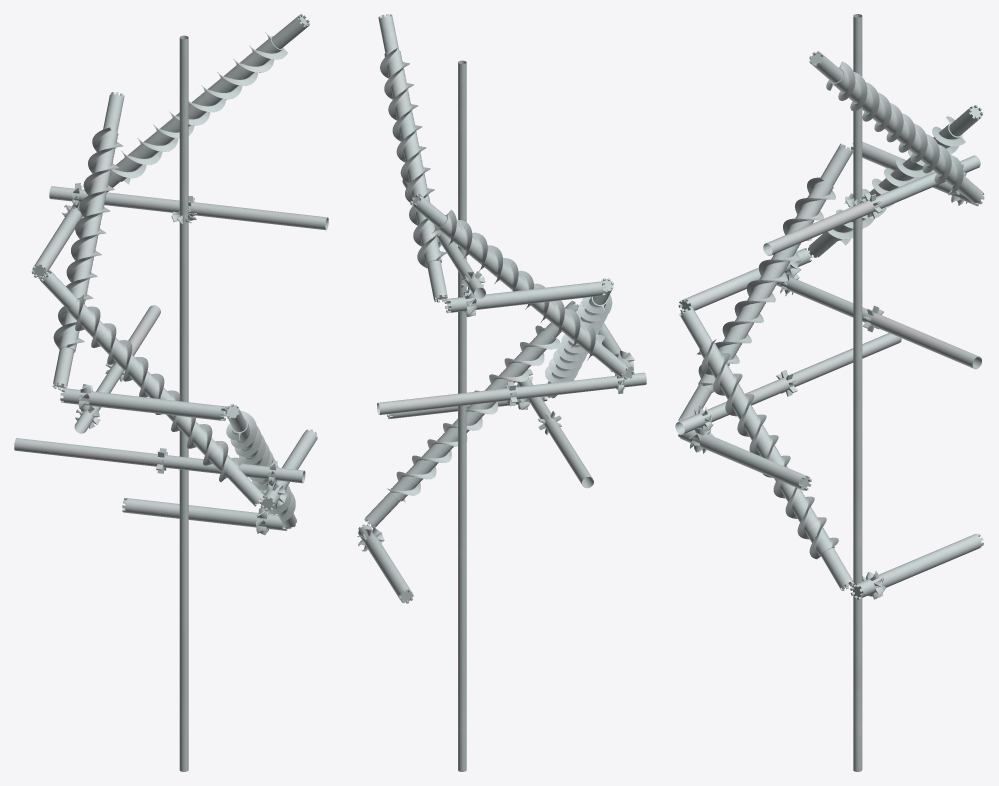
Rendered from field_winter_gear_recline.fbx.
The picture shows the model from 3 angles, left to right: view 1: azimuth 30°, elevation 25°; view 2: azimuth 150°, elevation 25°; view 3: azimuth 270°, elevation 25°; orthographic projection. The views are drawn at different scales.
Visible parts, largest first — view 1: field_winter_gear_recline; view 2: field_winter_gear_recline; view 3: field_winter_gear_recline.
Boxes of the visible parts, x1=… form: field_winter_gear_recline: x1=14, y1=14, x2=328, y2=771; field_winter_gear_recline: x1=357, y1=14, x2=646, y2=771; field_winter_gear_recline: x1=675, y1=14, x2=984, y2=771.
Size of the model in its own units: 545 by 1493 by 545.
1 material, 1 textured.
